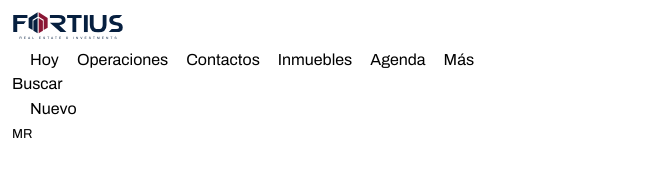
«+ Nuevo» abre las cinco altas, la operación primero, y avisa a la pantalla destino
The image size is (663, 180).
Click the button "Nuevo". click: (44, 108)
box: top-left (12, 96), bottom-right (77, 121)
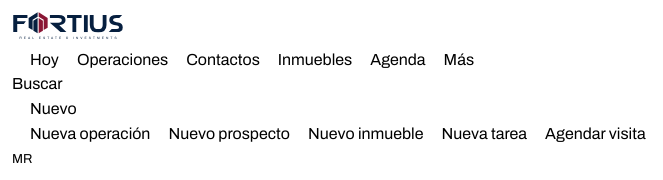
Click the menu item "Nuevo prospecto". click: (220, 134)
box: top-left (150, 125), bottom-right (290, 142)
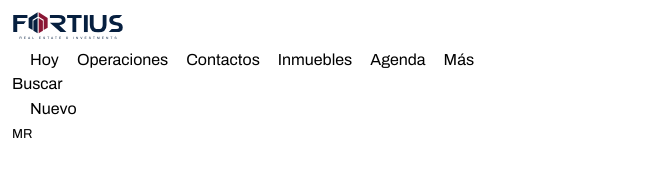
Expected: the menu is gone
Click the button "Nuevo". click: (44, 108)
box: top-left (12, 96), bottom-right (77, 121)
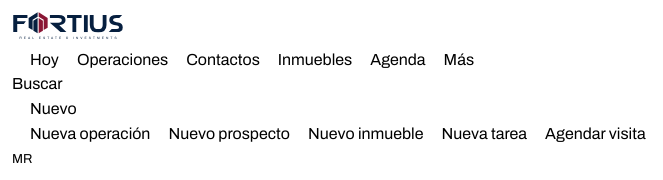
Press Escape
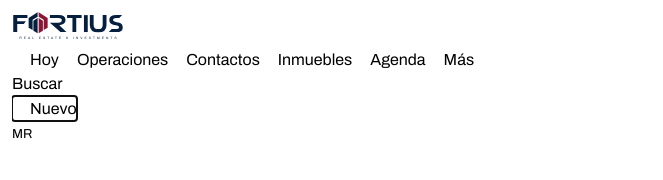
Expected: the menu is gone
